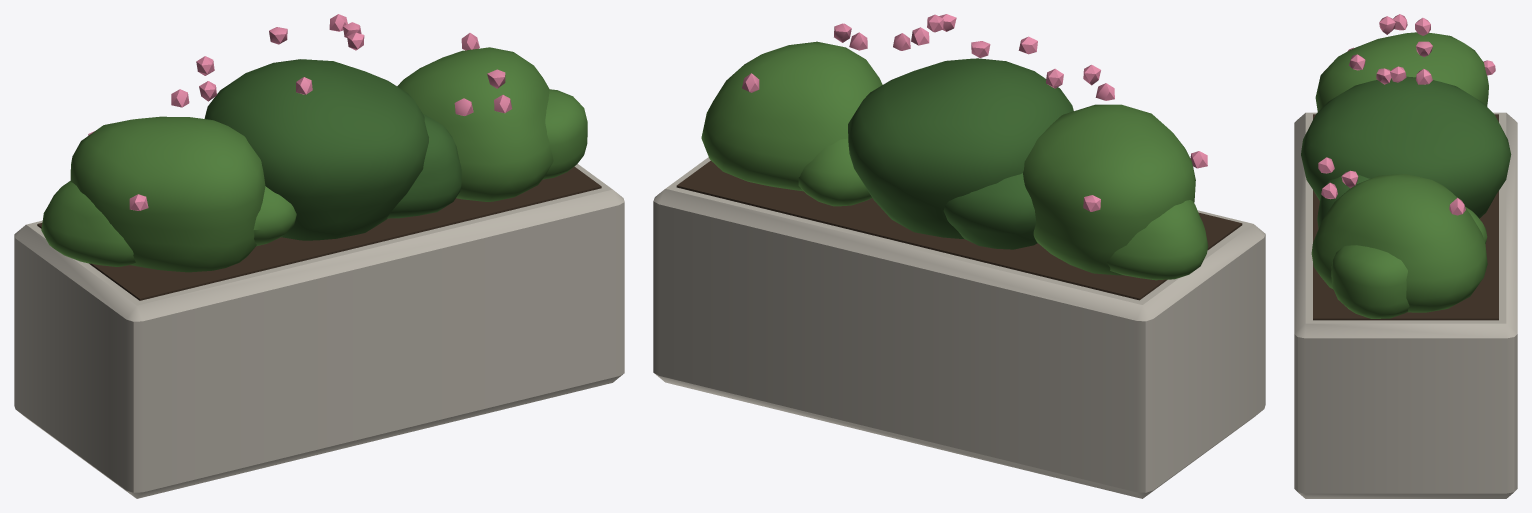
File: Planter.fbx
The picture shows the model from 3 angles, left to right: view 1: azimuth 30°, elevation 25°; view 2: azimuth 150°, elevation 25°; view 3: azimuth 270°, elevation 25°; orthographic projection. The views are drawn at different scales.
Visible parts, largest first — view 1: Planter_Mesh; view 2: Planter_Mesh; view 3: Planter_Mesh.
Boxes of the visible parts, x1,y1,x2,y2 form: Planter_Mesh: (14, 14, 624, 498); Planter_Mesh: (653, 14, 1265, 498); Planter_Mesh: (1294, 14, 1517, 498).
Size of the model in its own units: 1.42 by 1.01 by 0.6.
